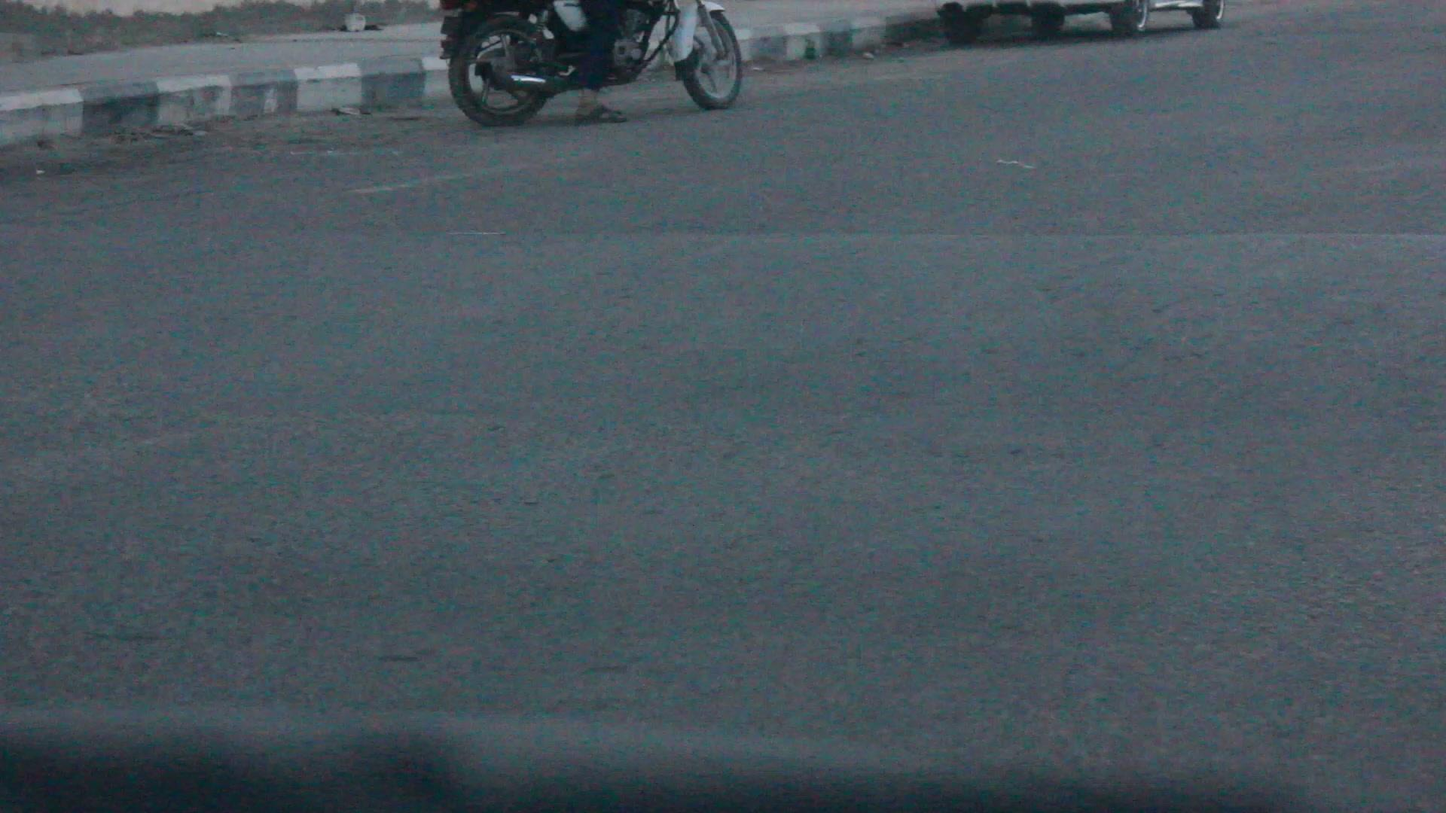Bump: (2, 216, 1446, 438)
